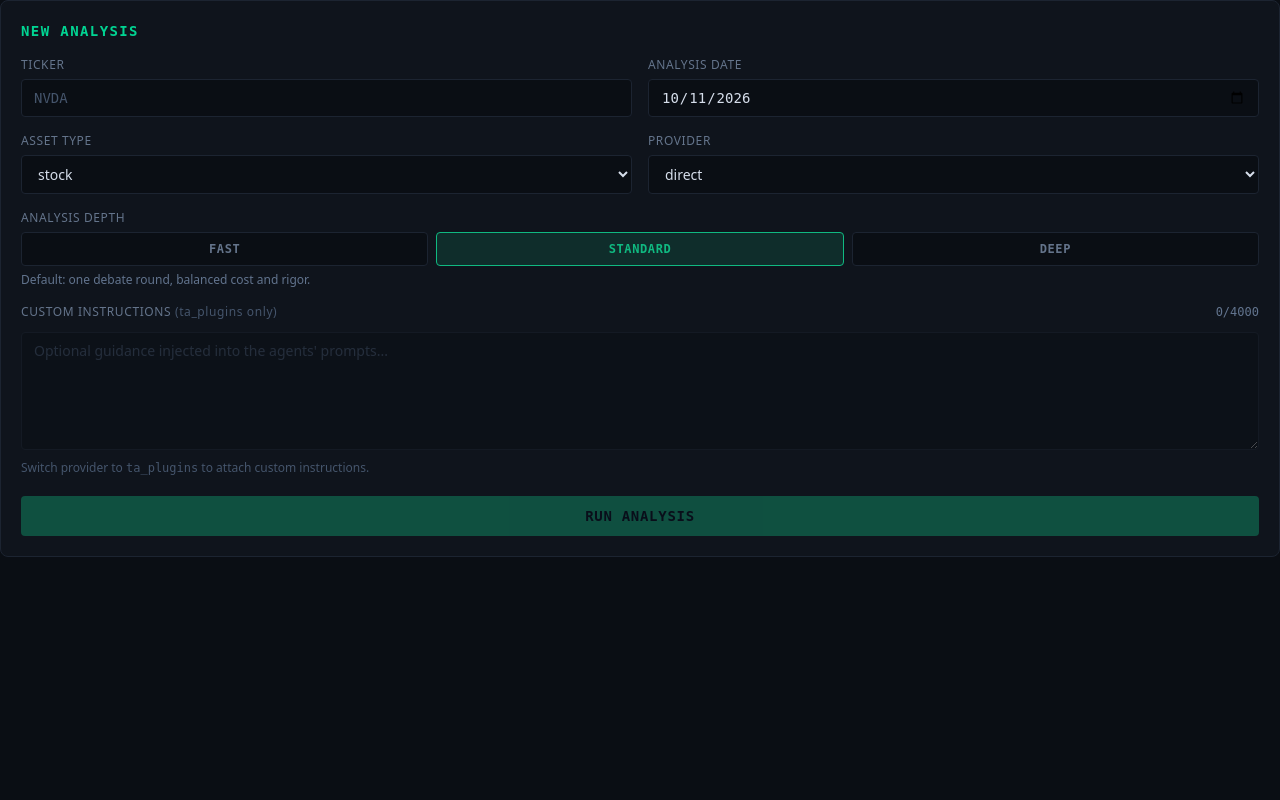
AnalyzeForm instructions › disables instructions for provider 'direct' and enables them for 'ta_plugins'
Expected: the text box labelled "Custom instructions (ta_plugins only)" is disabled, [21,332,1259,450]
Select "ta_plugins" in the dropdown labelled "Provider": (954, 174) [648,155,1259,194]
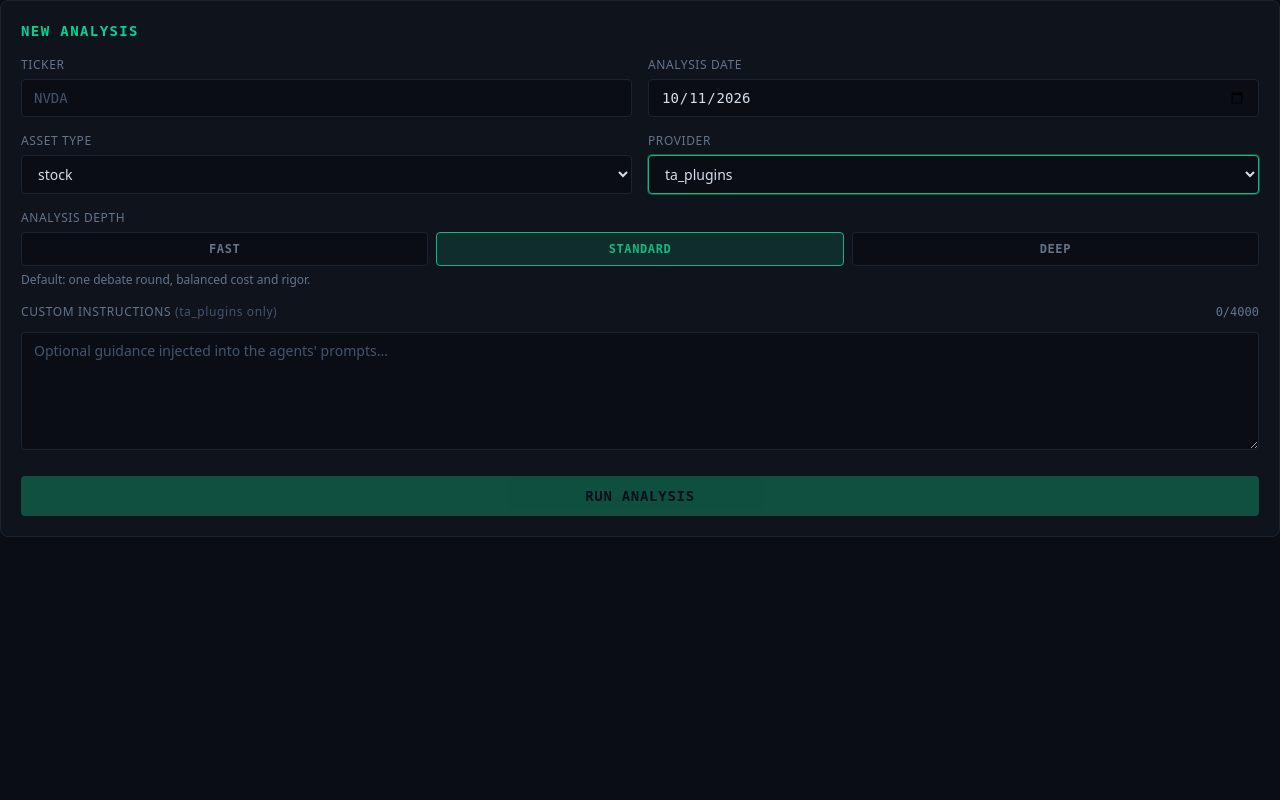
Result: the text box labelled "Custom instructions (ta_plugins only)" is enabled at [21,332,1259,450]
